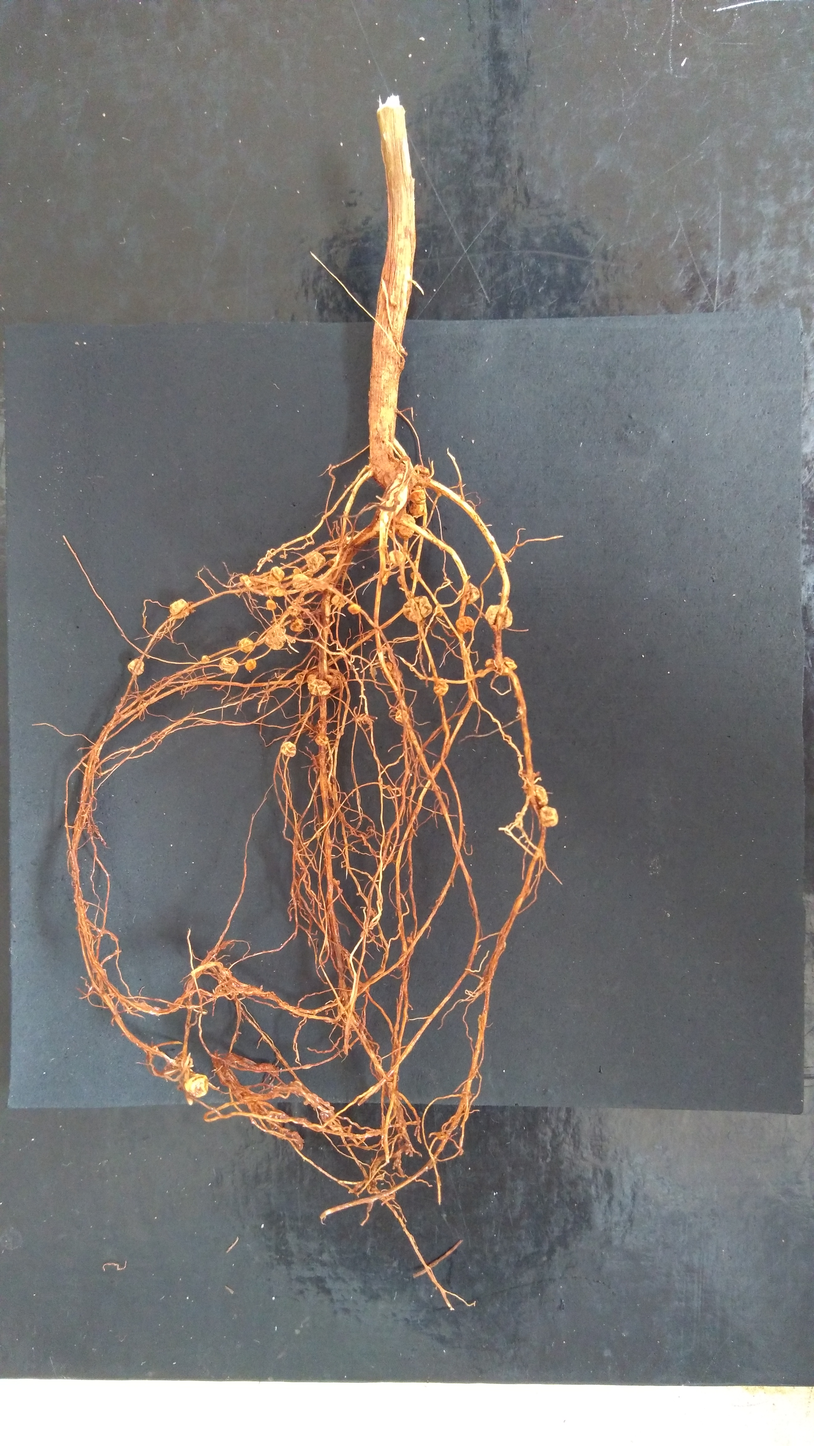nodule: (379, 485, 408, 521), (403, 596, 432, 622), (485, 605, 512, 630), (184, 1074, 208, 1097), (307, 675, 331, 696), (409, 490, 426, 518), (265, 627, 285, 650), (458, 583, 479, 604), (398, 514, 415, 538), (414, 465, 430, 490), (305, 552, 326, 570), (259, 575, 281, 592), (170, 599, 189, 618), (325, 669, 343, 688), (288, 596, 304, 616), (456, 616, 474, 633), (219, 657, 238, 673), (313, 575, 330, 592), (128, 659, 144, 676), (433, 678, 448, 696), (317, 1109, 336, 1123), (389, 550, 404, 566), (269, 566, 284, 582), (280, 741, 296, 756), (292, 574, 309, 588), (239, 638, 253, 652), (395, 710, 409, 723), (331, 594, 345, 607), (504, 657, 517, 670), (391, 668, 403, 682), (290, 619, 304, 631), (240, 575, 252, 587), (315, 735, 329, 745), (484, 658, 496, 669), (245, 659, 256, 671), (348, 604, 361, 614), (382, 571, 390, 586), (295, 672, 304, 685), (410, 572, 421, 582), (433, 606, 443, 617), (272, 587, 284, 596), (266, 600, 276, 610), (325, 541, 336, 550), (250, 576, 258, 586), (385, 662, 393, 670), (397, 575, 404, 584), (477, 669, 484, 678), (201, 655, 209, 662), (332, 878, 340, 885), (93, 755, 100, 762), (341, 572, 348, 579), (381, 646, 387, 654), (293, 568, 301, 574), (466, 673, 475, 678), (327, 560, 334, 566), (303, 609, 309, 615), (406, 937, 413, 942), (202, 676, 207, 682), (339, 889, 343, 893)
